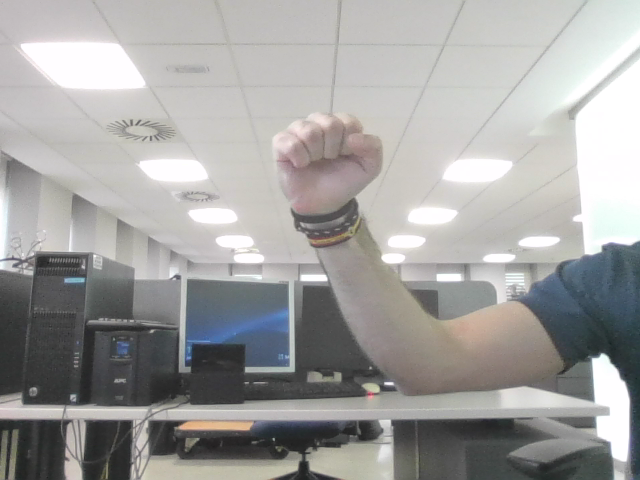Puño: (284, 122, 369, 190)
